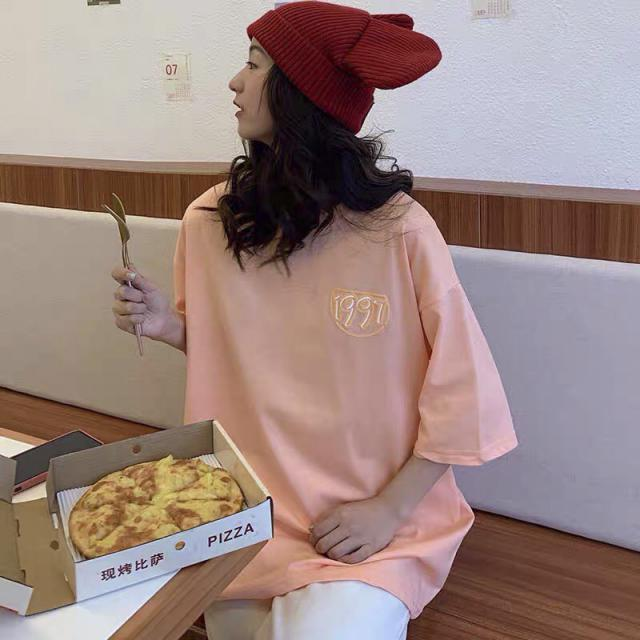Shirt: (171, 168, 529, 617)
